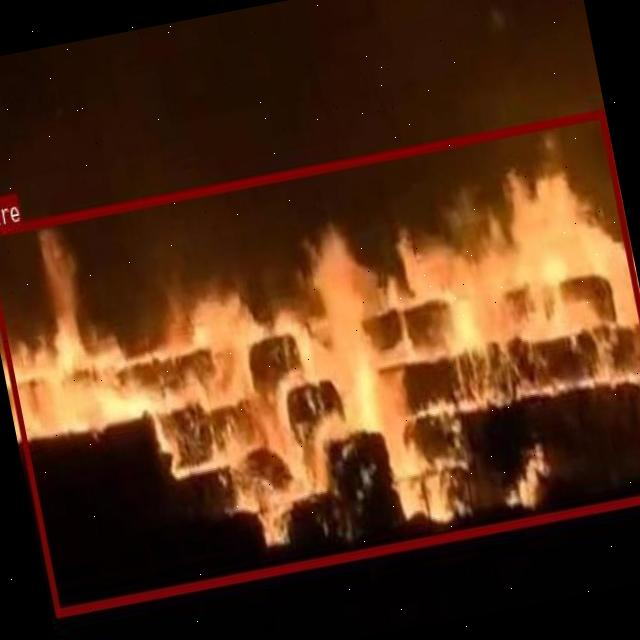fire: (0, 107, 640, 616)
